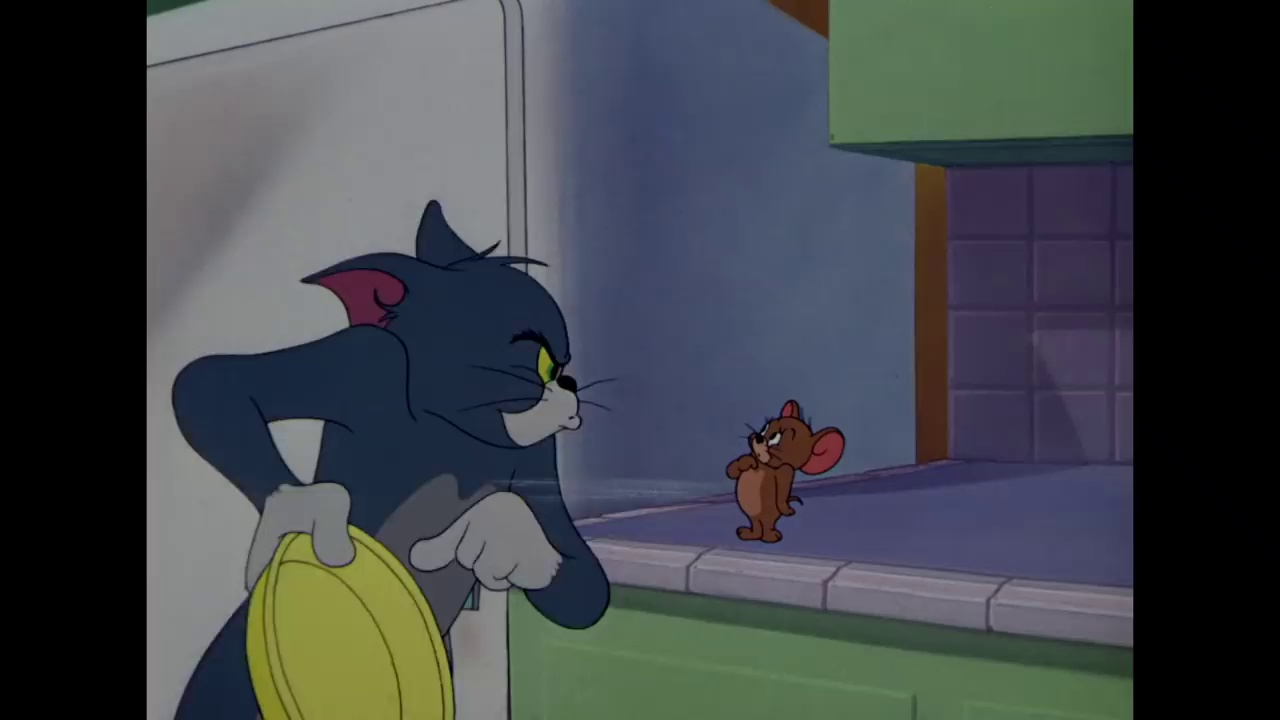tom: (299, 196, 592, 455)
